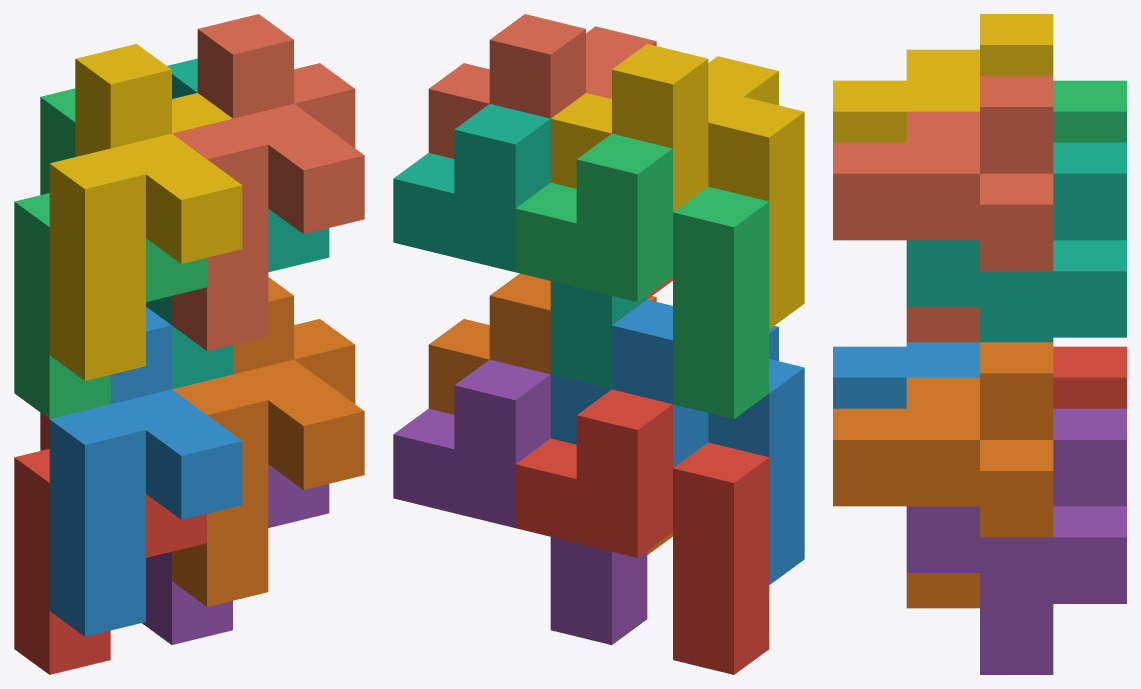
The model's file is tiling.obj.
3 renders of one model, left to right at view 1: azimuth 30°, elevation 25°; view 2: azimuth 150°, elevation 25°; view 3: azimuth 270°, elevation 25°, orthographic. The views are drawn at different scales.
Parts seen in each view (by area): view 1: copy_1_domain_4, copy_1_domain_8, copy_1_domain_2, copy_1_domain_6, copy_1_domain_3, copy_1_domain_1, copy_1_domain_5, copy_1_domain_7; view 2: copy_1_domain_1, copy_1_domain_3, copy_1_domain_4, copy_1_domain_5, copy_1_domain_7, copy_1_domain_2, copy_1_domain_8, copy_1_domain_6; view 3: copy_1_domain_8, copy_1_domain_6, copy_1_domain_5, copy_1_domain_7, copy_1_domain_4, copy_1_domain_2, copy_1_domain_1, copy_1_domain_3.
Part boxes in pixels (<box>): copy_1_domain_4: <box>49,44,242,380</box>; copy_1_domain_8: <box>172,14,364,351</box>; copy_1_domain_2: <box>49,307,242,636</box>; copy_1_domain_6: <box>172,277,364,606</box>; copy_1_domain_3: <box>14,88,206,418</box>; copy_1_domain_1: <box>14,412,206,674</box>; copy_1_domain_5: <box>142,464,329,644</box>; copy_1_domain_7: <box>146,58,329,389</box>; copy_1_domain_1: <box>515,389,769,674</box>; copy_1_domain_3: <box>515,133,769,418</box>; copy_1_domain_4: <box>550,44,804,328</box>; copy_1_domain_5: <box>393,359,647,644</box>; copy_1_domain_7: <box>393,104,647,389</box>; copy_1_domain_2: <box>550,299,804,584</box>; copy_1_domain_8: <box>428,14,672,298</box>; copy_1_domain_6: <box>428,273,672,554</box>; copy_1_domain_8: <box>833,76,1053,342</box>; copy_1_domain_6: <box>833,342,1053,608</box>; copy_1_domain_5: <box>906,408,1126,674</box>; copy_1_domain_7: <box>906,142,1126,342</box>; copy_1_domain_4: <box>833,14,1053,142</box>; copy_1_domain_2: <box>833,342,979,408</box>; copy_1_domain_1: <box>1053,346,1126,408</box>; copy_1_domain_3: <box>1053,80,1126,142</box>.
Bounding box in the file's own units: 5 × 9 × 4.
